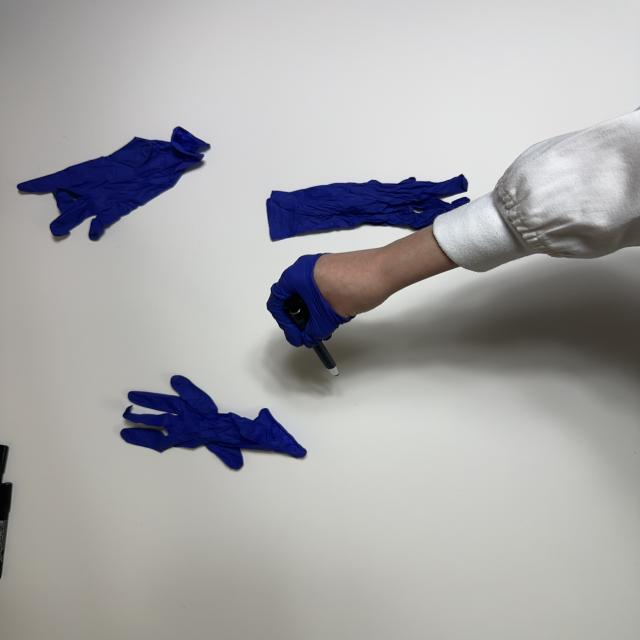glove_not_fitted: (266, 247, 403, 349)
